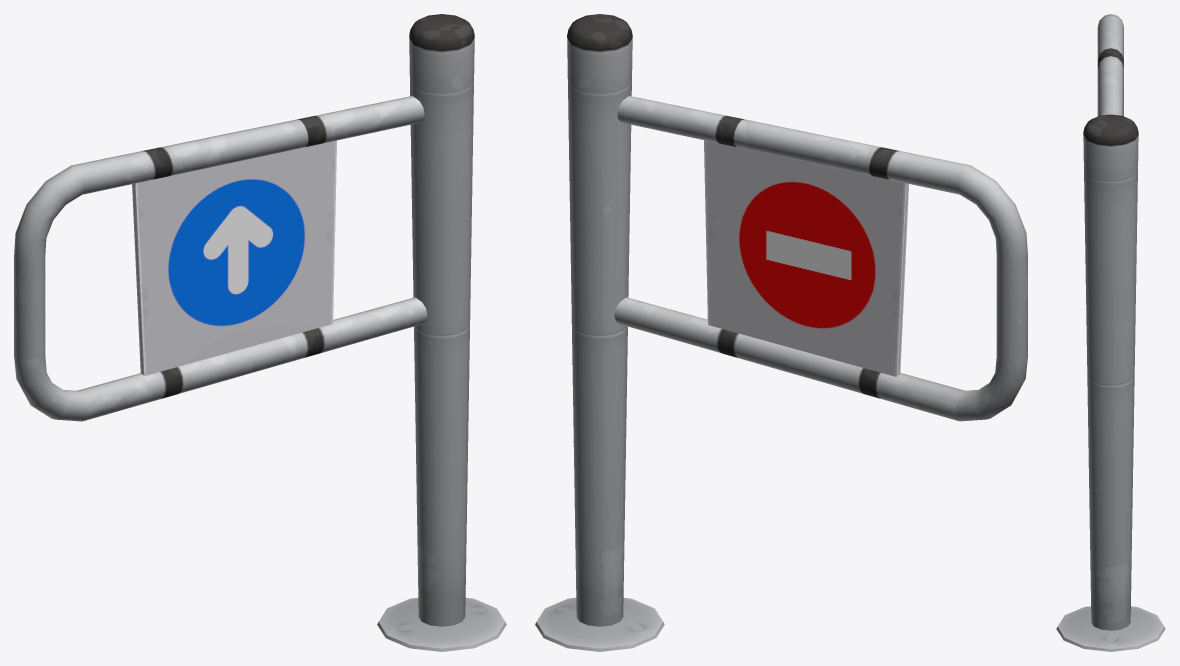
The model's file is CommTurnStile01_2.FBX.
3 renders of one model, left to right at view 1: azimuth 30°, elevation 25°; view 2: azimuth 150°, elevation 25°; view 3: azimuth 270°, elevation 25°, orthographic. The views are drawn at different scales.
Parts seen in each view (by area): view 1: CommTurnStile01_2; view 2: CommTurnStile01_2; view 3: CommTurnStile01_2.
Boxes of the visible parts, bbox=[...] form: CommTurnStile01_2: bbox=[14, 14, 506, 651]; CommTurnStile01_2: bbox=[535, 14, 1027, 651]; CommTurnStile01_2: bbox=[1056, 14, 1165, 651].
Size of what is drawn, in the model's own units: 0.9109 by 1.08 by 0.2124.
